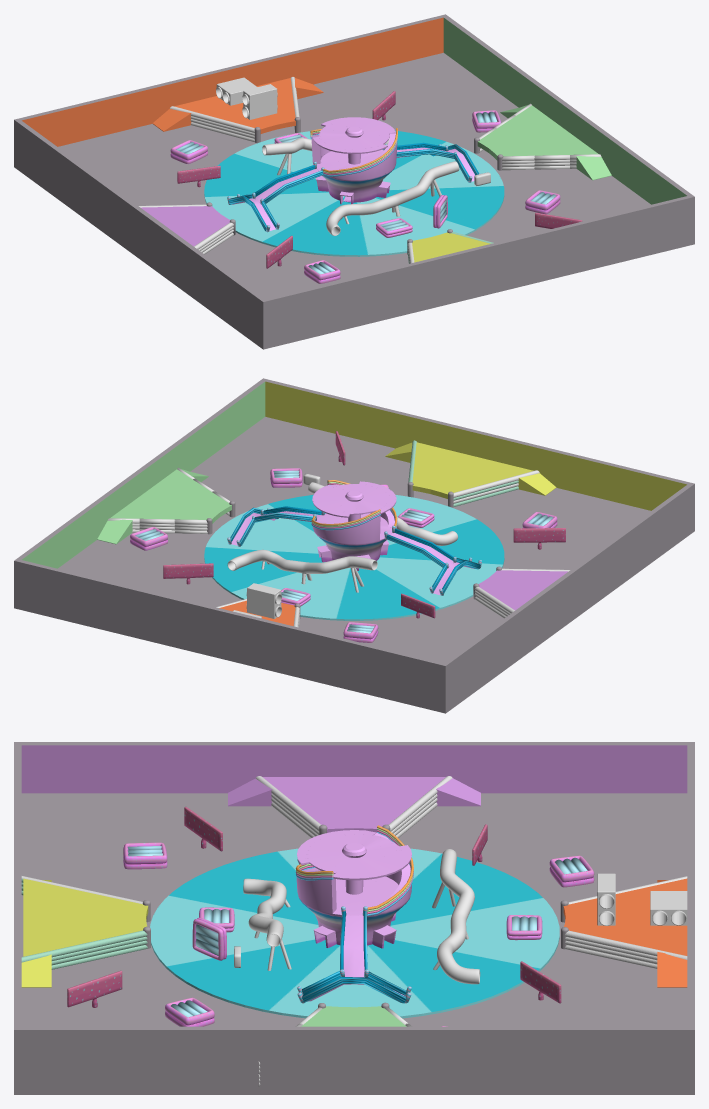
Rendered from Arena.fbx.
3 renders of one model, top to bottom at view 1: azimuth 30°, elevation 25°; view 2: azimuth 150°, elevation 25°; view 3: azimuth 270°, elevation 25°, orthographic. The views are drawn at different scales.
Parts seen in each view (by area): view 1: Cube, CenterCylinder, CenterBuilding, Cube.014, Cube.016, Pipe1, Cube.010, SideWalls4, Cube.012, SideWalls1, BridgeFence2, Cube.018 (+13 smaller); view 2: Cube, CenterCylinder, CenterBuilding, Cube.012, Cube.014, Pipe2, Cube.010, SideWalls3, SideWalls4, BridgeFence2, BridgeFence2.001, Cube.021 (+10 smaller); view 3: Cube, CenterCylinder, CenterBuilding, Cube.012, Cube.010, Cube.016, Pipe2, SideWalls3, SideWalls1, SideWalls2, Pipe1, Cube.019 (+16 smaller).
Part boxes in pixels (box(x1,y1,x2,y2)): Cube: box(14, 14, 694, 349); CenterCylinder: box(204, 130, 504, 256); CenterBuilding: box(232, 117, 474, 230); Cube.014: box(477, 105, 598, 160); Cube.016: box(174, 78, 295, 133); Pipe1: box(326, 161, 459, 235); Cube.010: box(141, 206, 229, 246); SideWalls4: box(479, 103, 601, 170); Cube.012: box(412, 232, 490, 262); SideWalls1: box(170, 77, 299, 142); BridgeFence2: box(228, 165, 323, 230); Cube.018: box(152, 78, 323, 131); Cube: box(14, 378, 694, 713); CenterCylinder: box(204, 495, 504, 620); CenterBuilding: box(231, 481, 475, 594); Cube.012: box(412, 442, 533, 498); Cube.014: box(110, 469, 231, 523); Pipe2: box(227, 549, 377, 592); Cube.010: box(478, 570, 567, 610); SideWalls3: box(408, 440, 539, 506); SideWalls4: box(107, 467, 229, 533); BridgeFence2: box(386, 528, 480, 593); BridgeFence2.001: box(230, 506, 321, 545); Cube.021: box(247, 583, 281, 618); Cube: box(14, 742, 694, 1094); CenterCylinder: box(150, 848, 559, 1018); CenterBuilding: box(296, 830, 411, 1001); Cube.012: box(23, 878, 148, 956); Cube.010: box(263, 777, 445, 832); Cube.016: box(563, 878, 687, 955); Pipe2: box(432, 849, 480, 984); SideWalls3: box(21, 876, 147, 969); SideWalls1: box(565, 876, 687, 968); SideWalls2: box(255, 776, 452, 838); Pipe1: box(243, 878, 291, 970); Cube.019: box(228, 778, 480, 806).
Bounding box in the file's own units: 19054 × 3217 × 19038.
